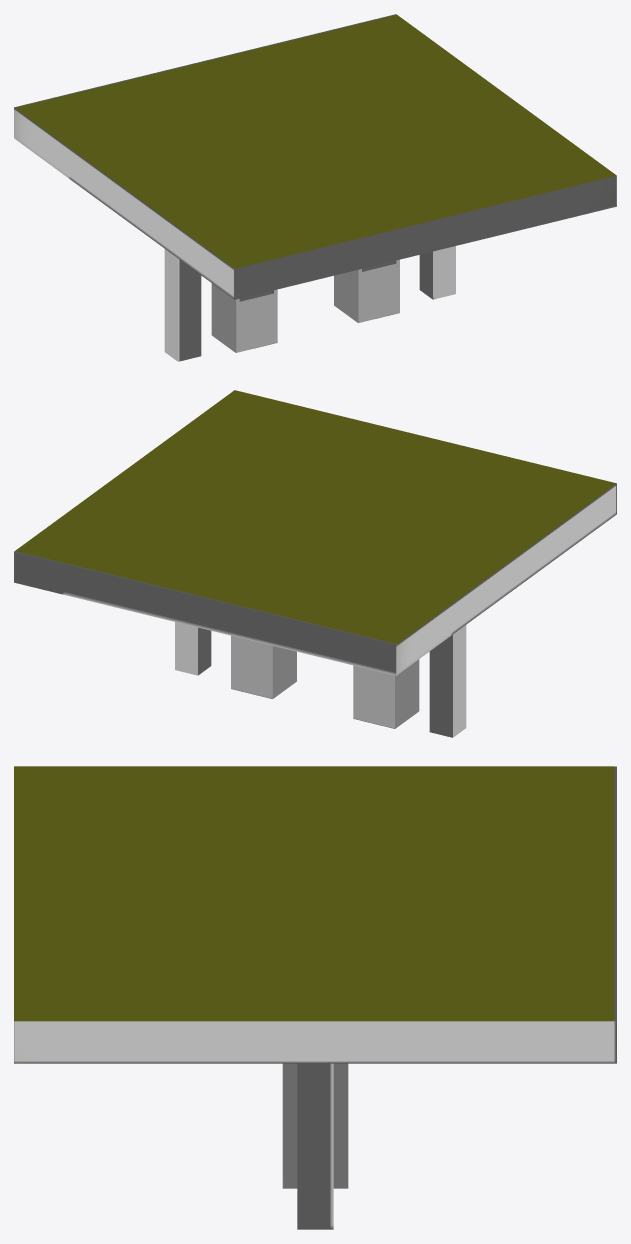
File: GGas.glb
The picture shows the model from 3 angles, top to bottom: view 1: azimuth 30°, elevation 25°; view 2: azimuth 150°, elevation 25°; view 3: azimuth 270°, elevation 25°; orthographic projection. The views are drawn at different scales.
Visible parts, largest first — view 1: Plane.030, Plane.032, Plane.033; view 2: Plane.030, Plane.032, Plane.033; view 3: Plane.030, Plane.033.
Boxes of the visible parts, x1,y1,x2,y2 form: Plane.030: (14, 14, 616, 361); Plane.032: (211, 283, 277, 352); Plane.033: (334, 259, 399, 322); Plane.030: (14, 390, 616, 737); Plane.032: (353, 659, 419, 728); Plane.033: (231, 635, 296, 698); Plane.030: (14, 766, 616, 1229); Plane.033: (282, 1063, 348, 1188).
Bounding box in the file's own units: 37.5 × 16.91 × 37.5.
